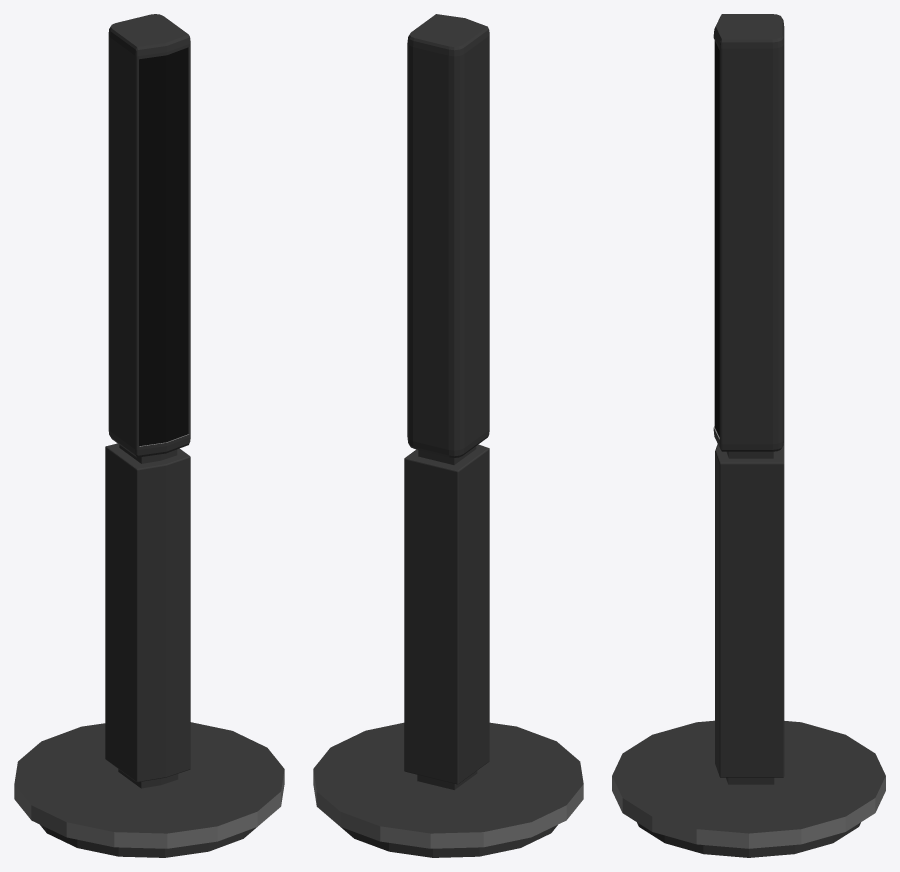
File: Prop_HomeTheater_04.fbx
3 renders of one model, left to right at view 1: azimuth 30°, elevation 25°; view 2: azimuth 150°, elevation 25°; view 3: azimuth 270°, elevation 25°, orthographic.
Visible parts, largest first — view 1: Prop_HomeTheater_04; view 2: Prop_HomeTheater_04; view 3: Prop_HomeTheater_04.
Boxes of the visible parts, x1,y1,x2,y2 form: Prop_HomeTheater_04: [14, 14, 284, 857]; Prop_HomeTheater_04: [313, 14, 583, 857]; Prop_HomeTheater_04: [612, 14, 885, 857].
Bounding box in the file's own units: 65.98 × 208 × 65.98.
